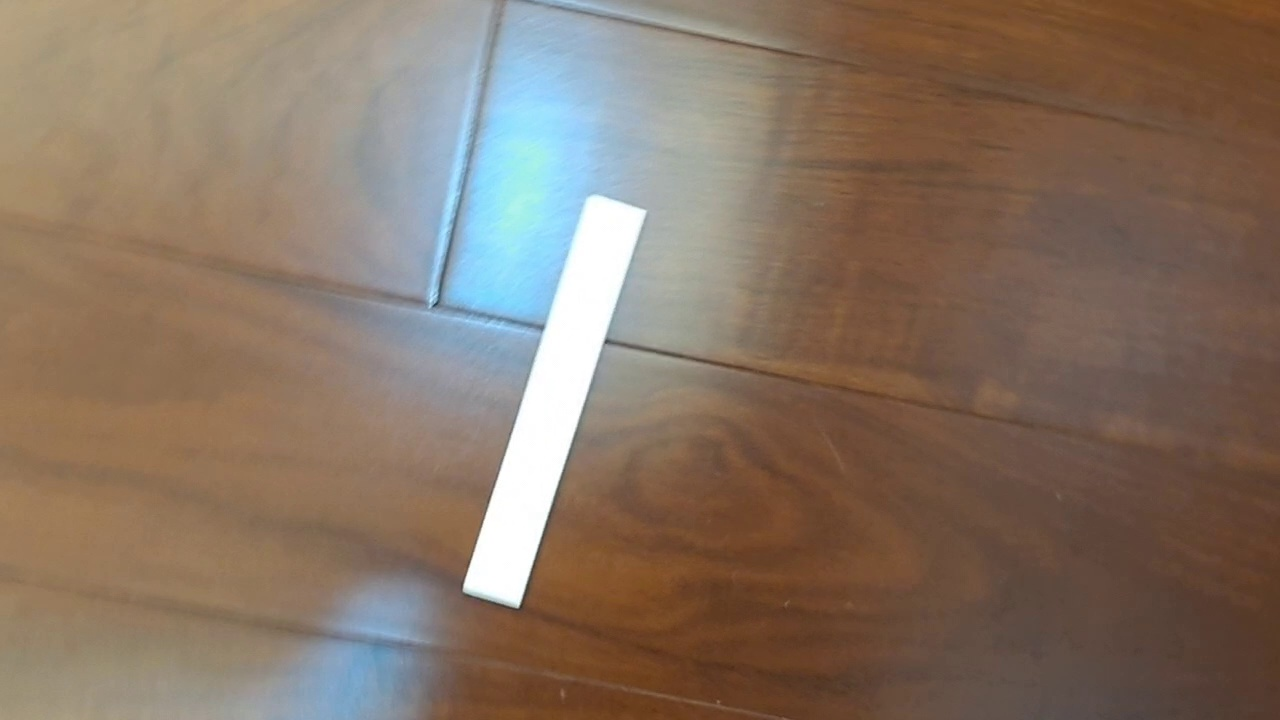ruler: (460, 192, 649, 612)
